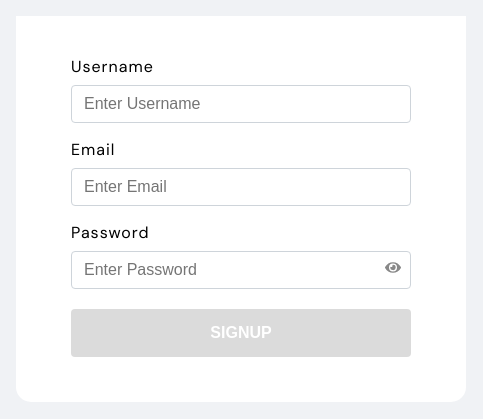
it: Button › should be enabled with input values
Type "Mena" into the field labelled "Username" at (241, 104), box [71,85,411,123]
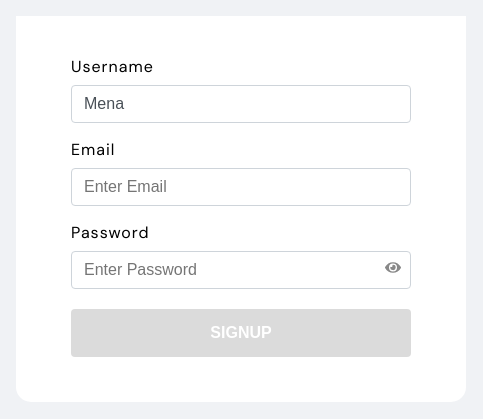
Type "test@test.com" into the field labelled "Email" at (241, 187), box [71,168,411,206]
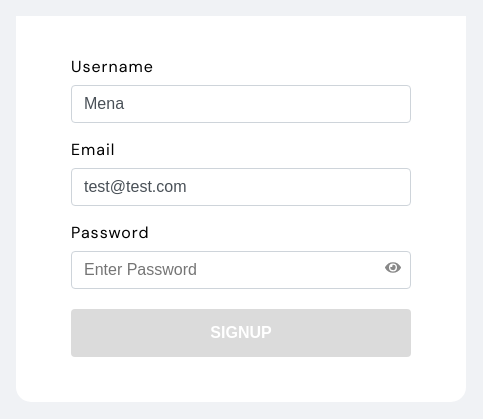
Type "12345" into the password field labelled "Password" at (241, 270), box [71,251,411,289]
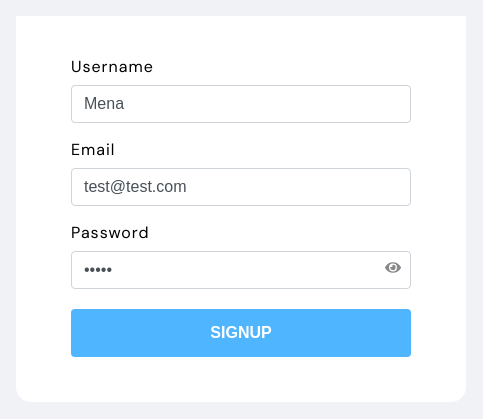
Check: the button is enabled, box [71,309,411,357]
